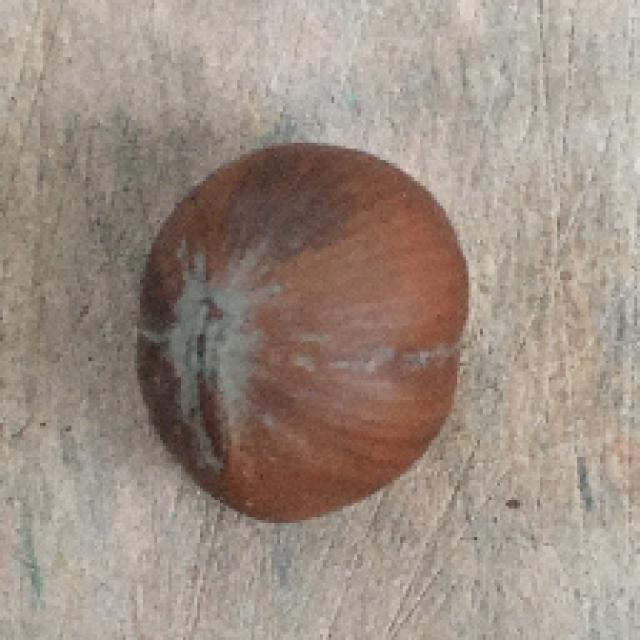damagedHazelnut: (134, 138, 475, 532)
